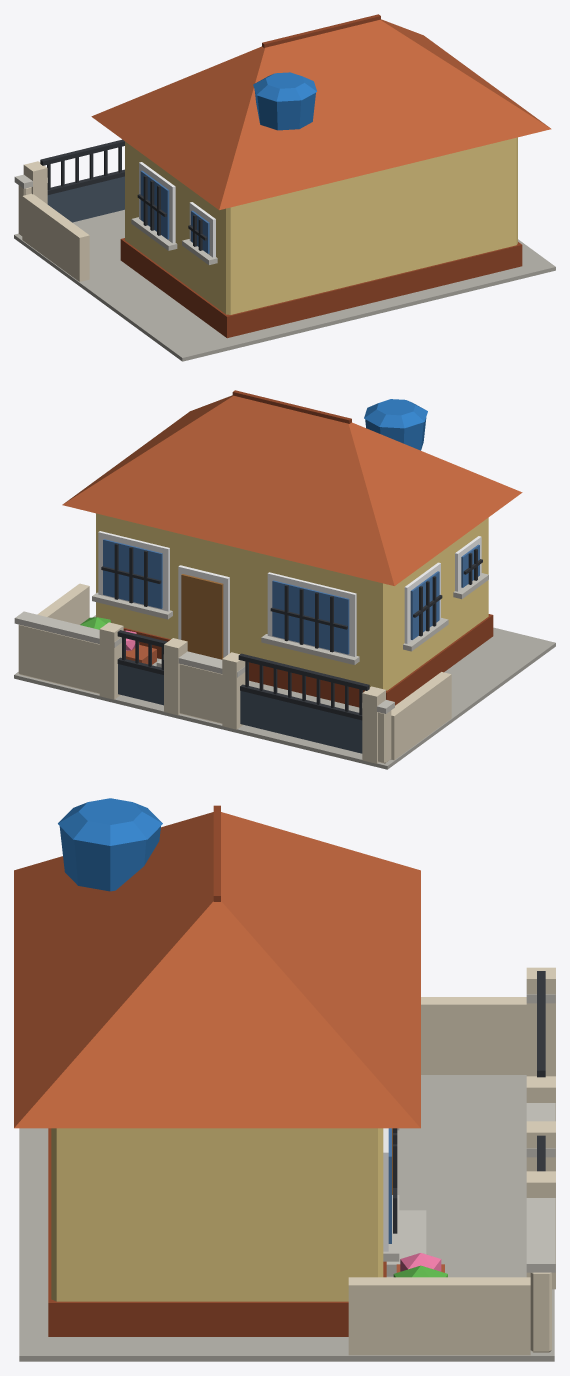
File: casa_terrea.glb
The picture shows the model from 3 angles, top to bottom: view 1: azimuth 30°, elevation 25°; view 2: azimuth 150°, elevation 25°; view 3: azimuth 270°, elevation 25°; orthographic projection. The views are drawn at different scales.
Parts seen in each view (by area): view 1: corpo; view 2: corpo; view 3: corpo.
Boxes of the visible parts, x1,y1,x2,y2 form: corpo: [14, 14, 555, 361]; corpo: [14, 390, 555, 769]; corpo: [14, 798, 555, 1361].
Size of the model in its own units: 1.28 by 0.778 by 1.01.
